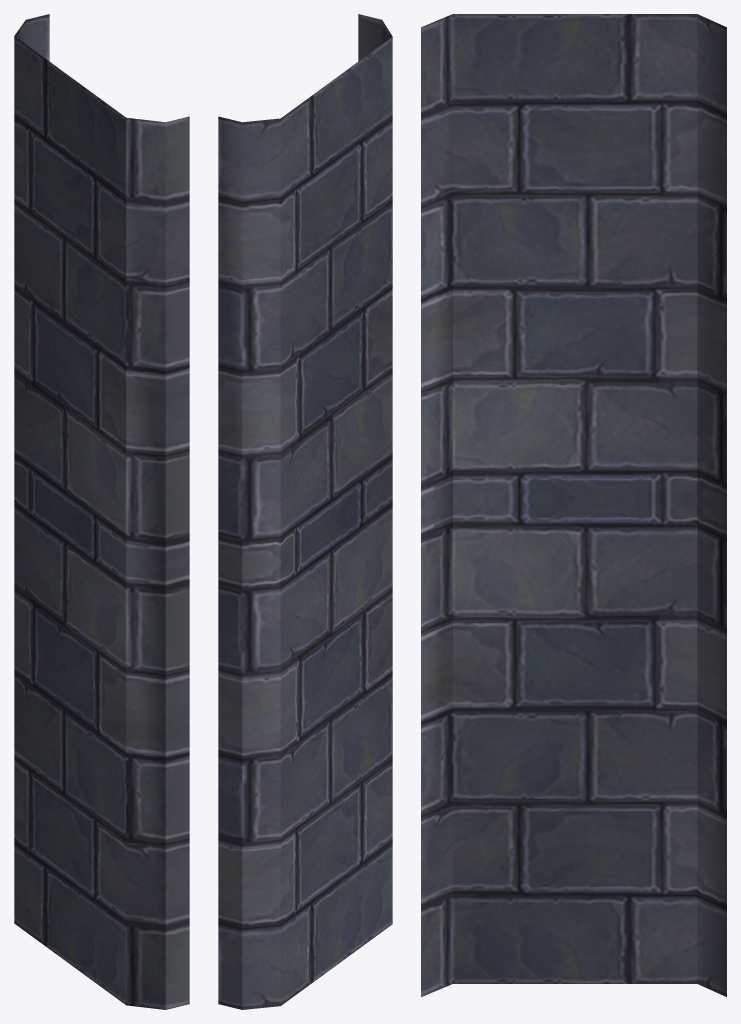
Rendered from dungeon_wall_column7m.fbx.
The picture shows the model from 3 angles, left to right: view 1: azimuth 30°, elevation 25°; view 2: azimuth 150°, elevation 25°; view 3: azimuth 270°, elevation 25°; orthographic projection. The views are drawn at different scales.
Parts seen in each view (by area): view 1: Object108.003; view 2: Object108.003; view 3: Object108.003.
Boxes of the visible parts, x1,y1,x2,y2 form: Object108.003: [14, 14, 189, 1009]; Object108.003: [218, 14, 392, 1009]; Object108.003: [421, 14, 726, 996].
Bounding box in the file's own units: 40.3 × 700 × 200.
